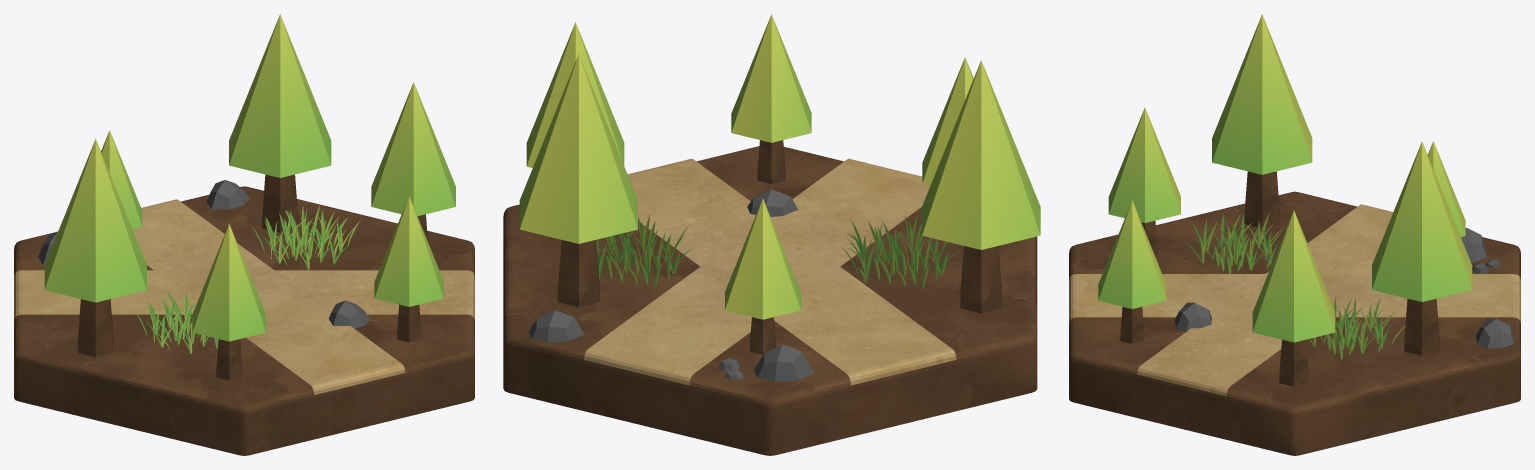
File: Road_TutType8.fbx
The picture shows the model from 3 angles, left to right: view 1: azimuth 30°, elevation 25°; view 2: azimuth 150°, elevation 25°; view 3: azimuth 270°, elevation 25°; orthographic projection. The views are drawn at different scales.
Visible parts, largest first — view 1: Object011; view 2: Object011; view 3: Object011.
Part boxes in pixels (left/top/right/bottom): Object011: left=14, top=14, right=474, bottom=455; Object011: left=503, top=14, right=1040, bottom=455; Object011: left=1069, top=14, right=1520, bottom=455.
Size of the model in its own units: 99.5 by 53.53 by 86.6.
